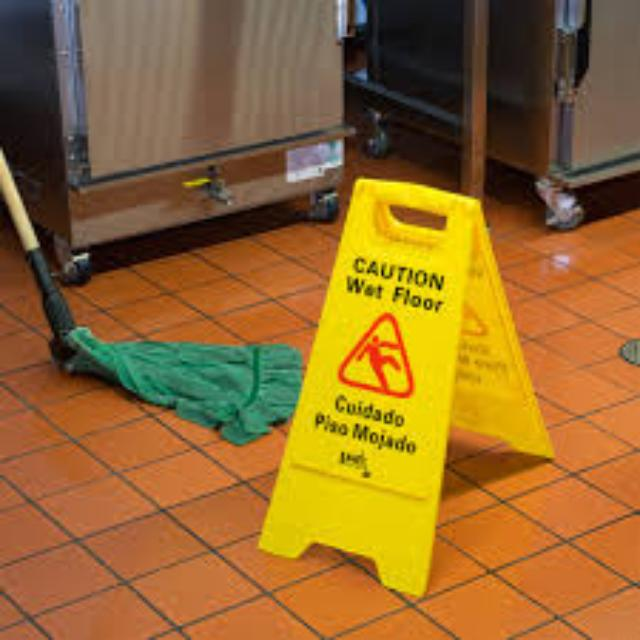slippery_floor: (259, 179, 552, 594)
